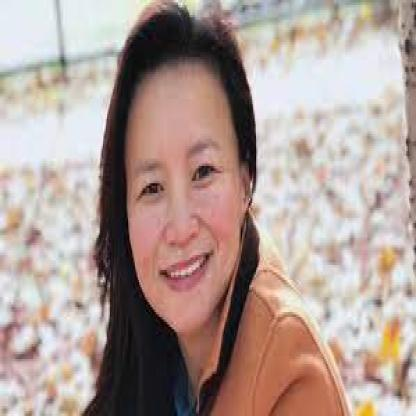person: (106, 11, 256, 327)
